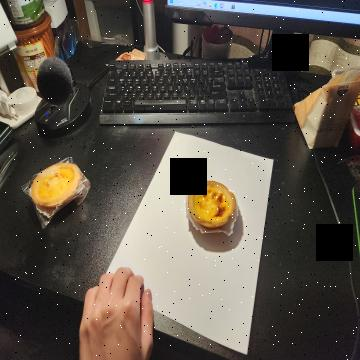EggTart: (187, 178, 238, 231)
